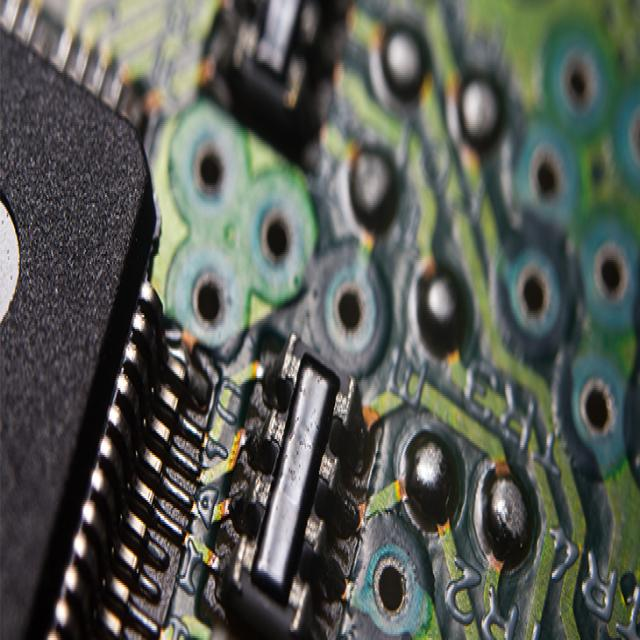Hazard: (10, 0, 636, 640)
